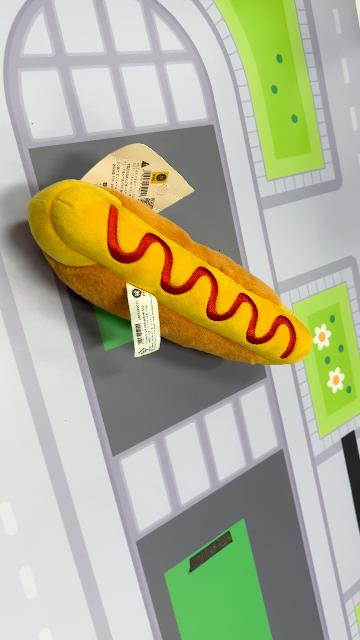hotdog: (27, 178, 314, 368)
